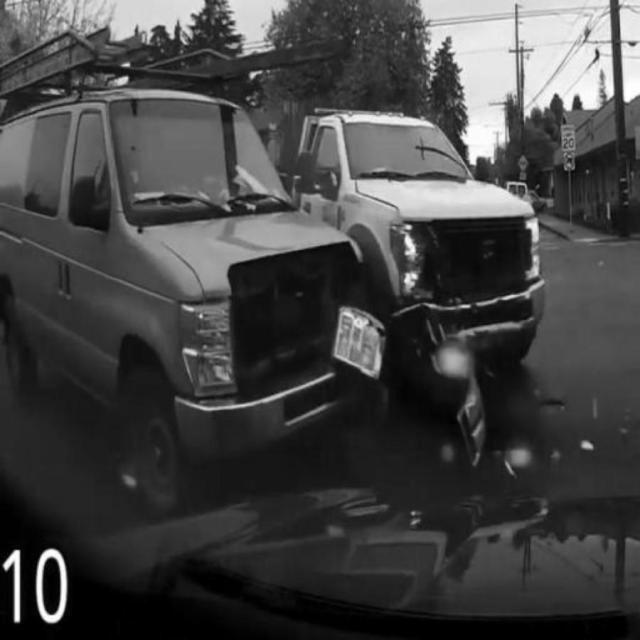accident: (4, 90, 546, 493)
